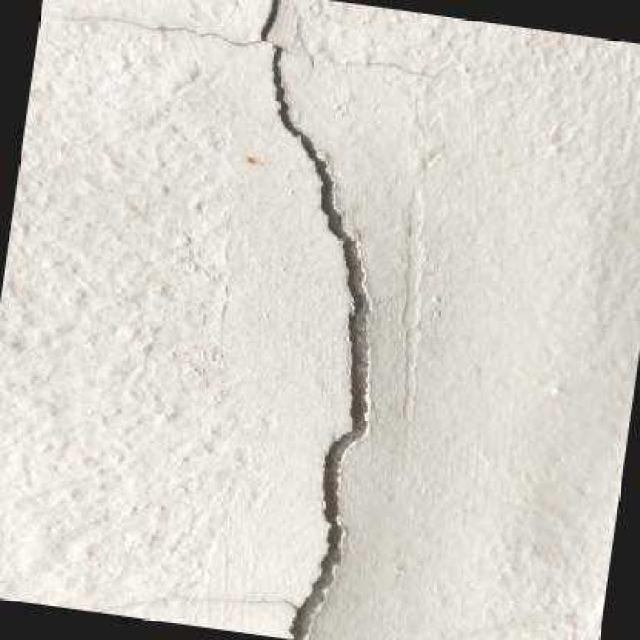D00: (257, 0, 370, 640)
